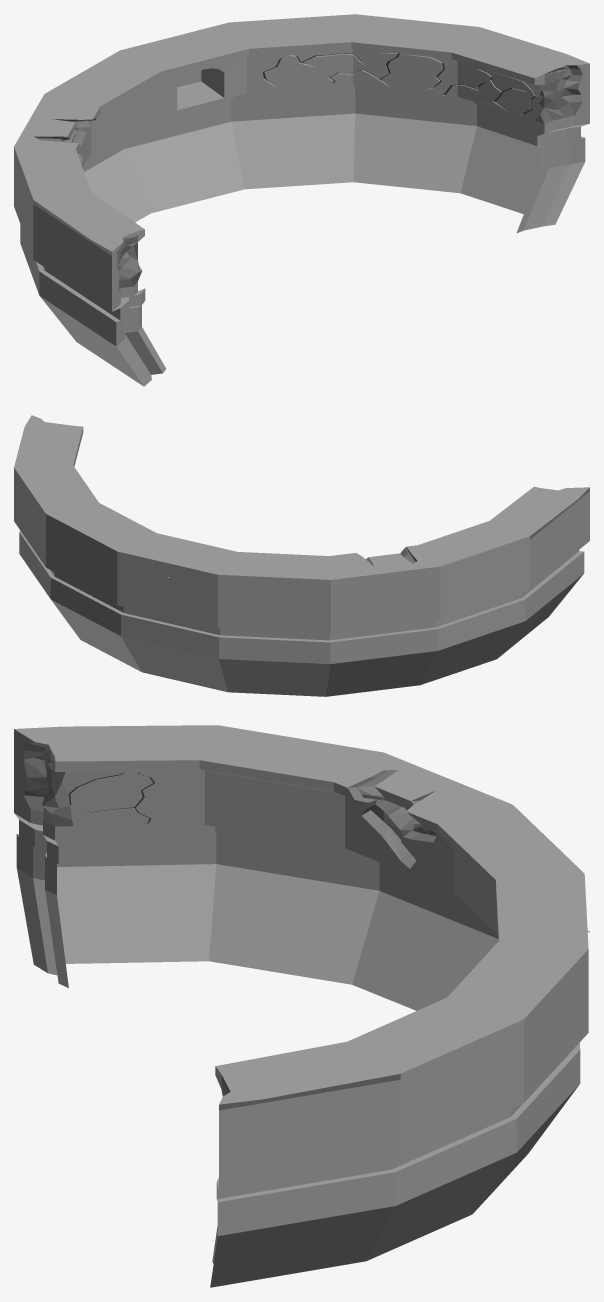
File: map_shape_border_visual.fbx
3 views of the same model, one above another, from view 1: azimuth 30°, elevation 25°; view 2: azimuth 150°, elevation 25°; view 3: azimuth 270°, elevation 25° (orthographic). The views are drawn at different scales.
Visible parts, largest first — view 1: Cylinder.001; view 2: Cylinder.001; view 3: Cylinder.001.
Boxes of the visible parts, box(x1,y1,x2,y2) form: Cylinder.001: box(14, 14, 589, 386); Cylinder.001: box(14, 415, 589, 696); Cylinder.001: box(14, 725, 589, 1287).
Bounding box in the file's own units: 1714 × 440 × 1100.
